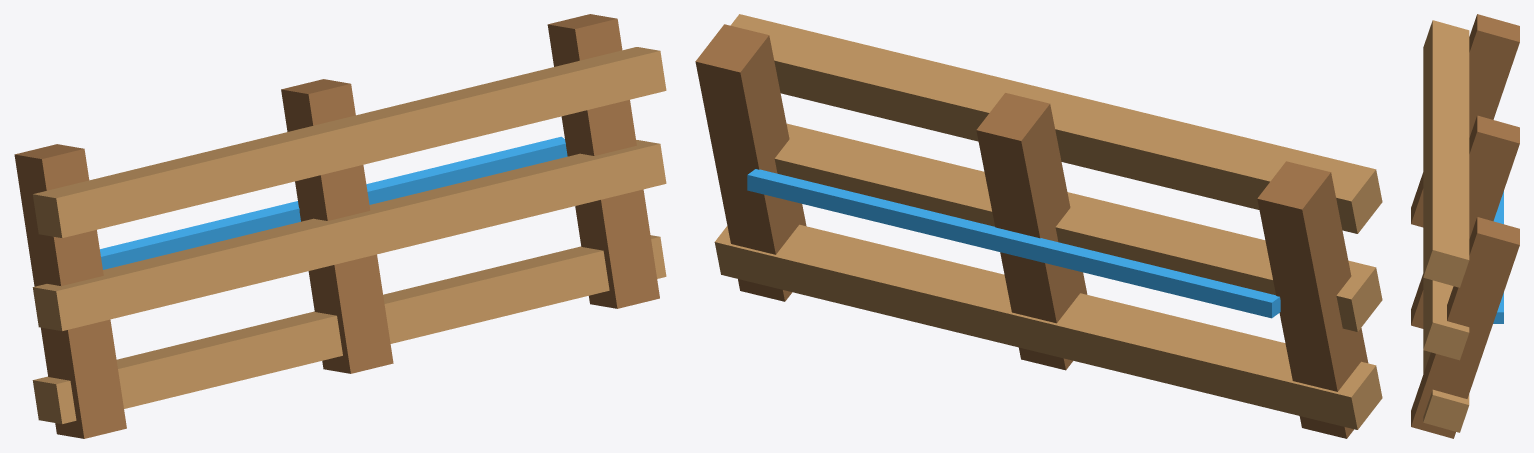
File: upgrade-pallet_plow.glb
The picture shows the model from 3 angles, left to right: view 1: azimuth 30°, elevation 25°; view 2: azimuth 150°, elevation 25°; view 3: azimuth 270°, elevation 25°; orthographic projection. The views are drawn at different scales.
Parts seen in each view (by area): view 1: upgrade-pallet_plow; view 2: upgrade-pallet_plow; view 3: upgrade-pallet_plow.
Boxes of the visible parts, box(x1,y1,x2,y2) form: upgrade-pallet_plow: box(14, 14, 666, 438); upgrade-pallet_plow: box(695, 14, 1382, 438); upgrade-pallet_plow: box(1411, 14, 1519, 438).
Size of the model in its own units: 1.7 by 0.7101 by 0.3406.
